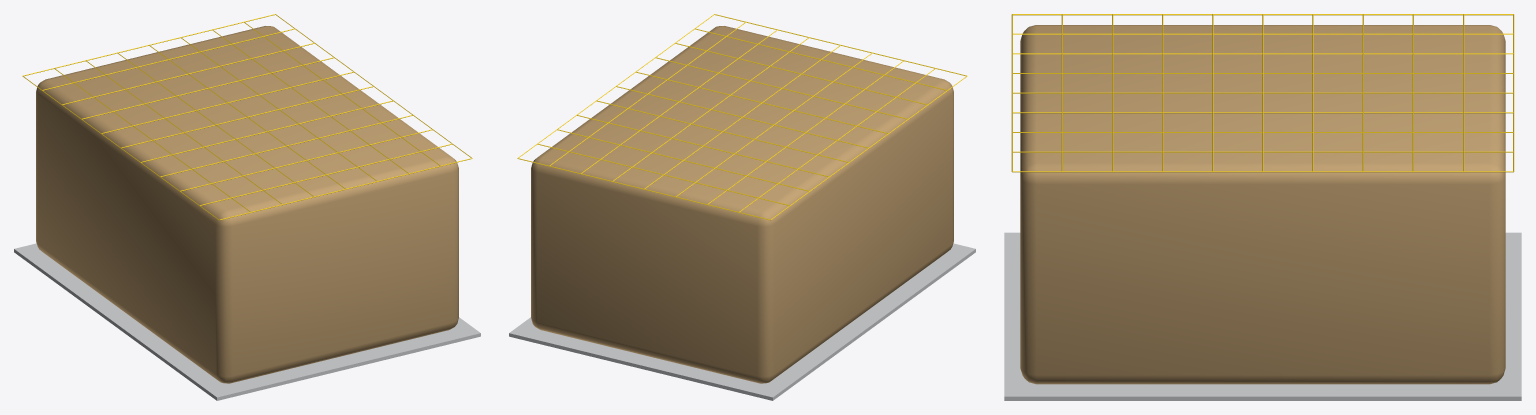
The model's file is airport.cargo.pallet.glb.
3 views of the same model, side by side, from view 1: azimuth 30°, elevation 25°; view 2: azimuth 150°, elevation 25°; view 3: azimuth 270°, elevation 25° (orthographic). The views are drawn at different scales.
Visible parts, largest first — view 1: main__plywood, main__aluminium, main__plastic_yellow; view 2: main__plywood, main__aluminium, main__plastic_yellow; view 3: main__plywood, main__aluminium, main__plastic_yellow.
Part boxes in pixels (x1,y1,x2,y2): main__plywood: [36, 26, 458, 383]; main__aluminium: [14, 243, 480, 400]; main__plastic_yellow: [22, 14, 472, 220]; main__plywood: [531, 26, 953, 383]; main__aluminium: [509, 243, 975, 400]; main__plastic_yellow: [517, 14, 967, 220]; main__plywood: [1020, 25, 1505, 384]; main__aluminium: [1004, 232, 1521, 400]; main__plastic_yellow: [1011, 14, 1514, 172].
Bounding box in the file's own units: 2.4 × 1.54 × 3.2.
